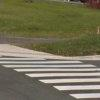Crosswalk: (7, 41, 97, 100)
